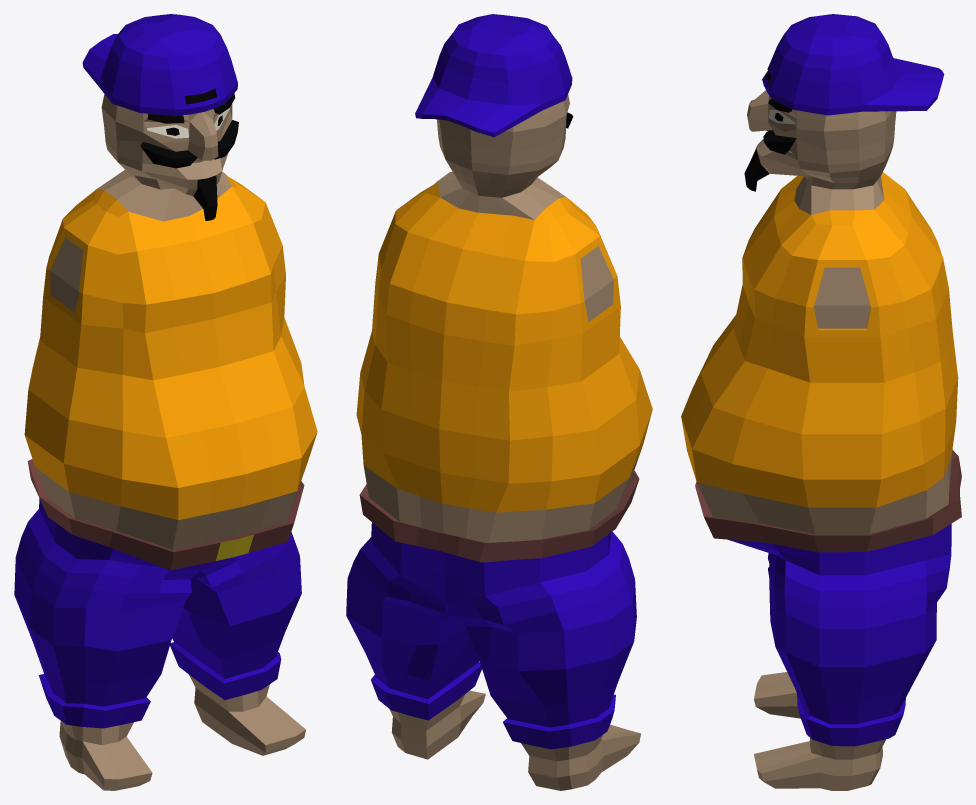
Rendered from Hero_V1.fbx.
The picture shows the model from 3 angles, left to right: view 1: azimuth 30°, elevation 25°; view 2: azimuth 150°, elevation 25°; view 3: azimuth 270°, elevation 25°; orthographic projection.
Visible parts, largest first — view 1: Sergio; view 2: Sergio; view 3: Sergio.
Boxes of the visible parts, x1,y1,x2,y2 form: Sergio: (14,14,317,790); Sergio: (346,14,652,790); Sergio: (681,14,961,790).
Size of the model in its own units: 1.36 by 3.81 by 1.34.
